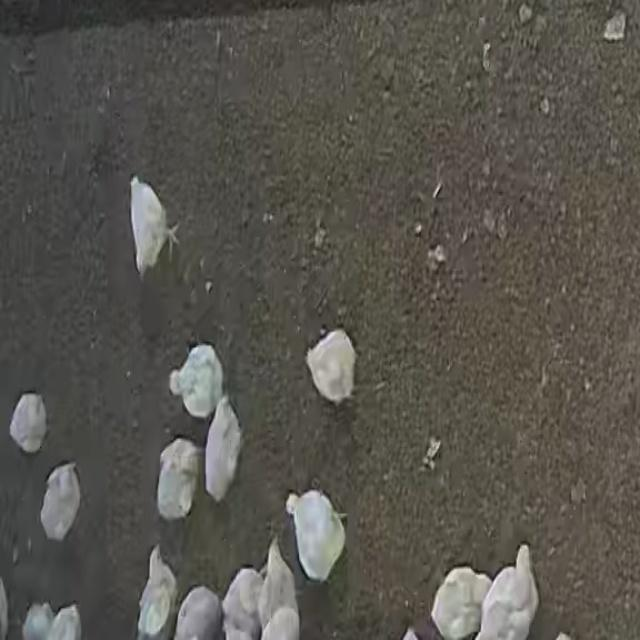chicken: (474, 544, 545, 640), (282, 488, 351, 586), (124, 172, 184, 278), (299, 324, 365, 404), (427, 566, 494, 640), (165, 337, 227, 415), (203, 396, 246, 501), (35, 455, 85, 545), (150, 438, 202, 518), (9, 383, 47, 459)
